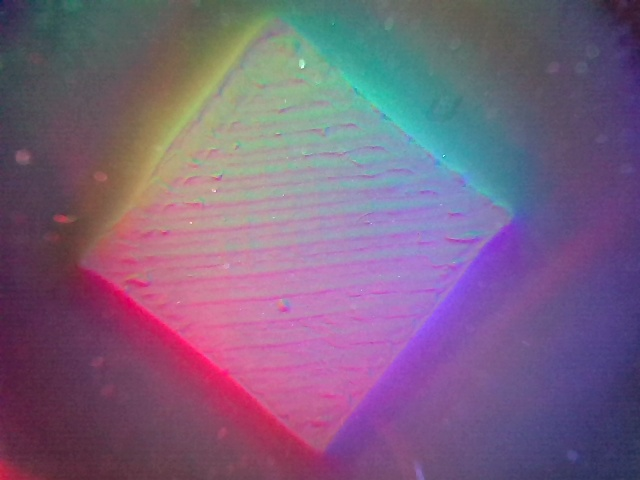contact: (86, 19, 507, 446)
